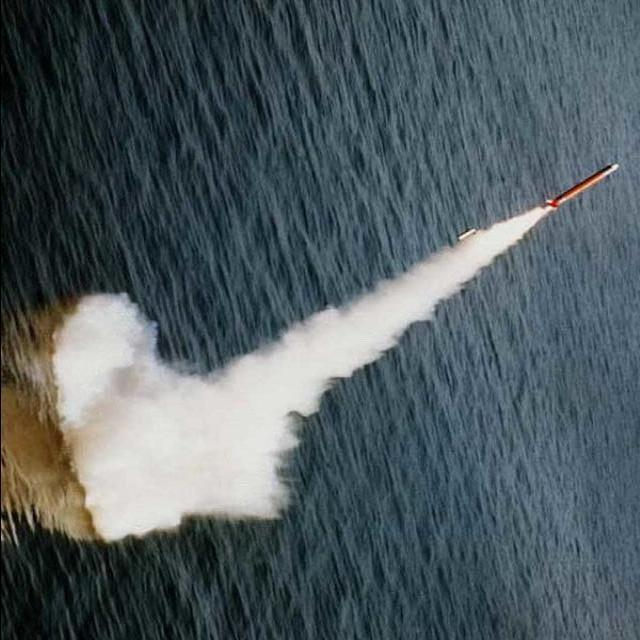missile: (546, 158, 624, 212)
